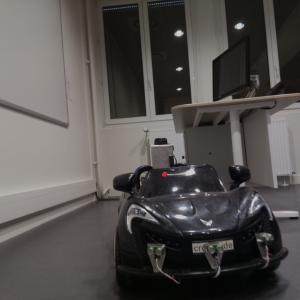big: (110, 163, 292, 291)
